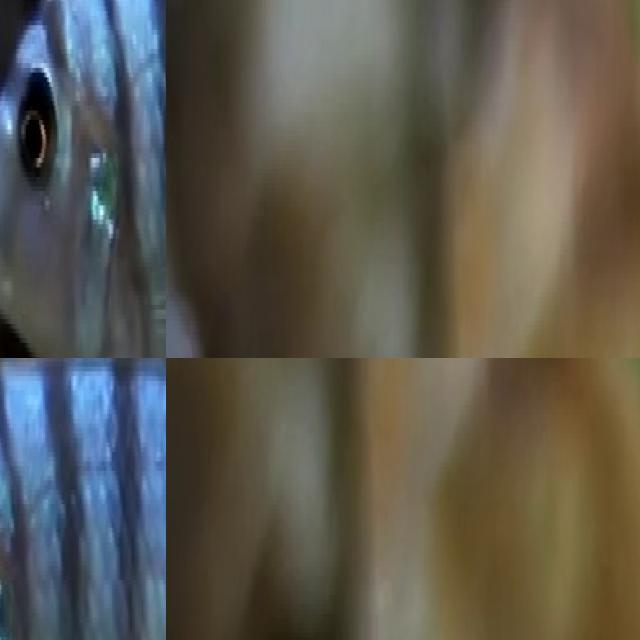fish: (0, 0, 166, 358), (0, 358, 166, 640)
